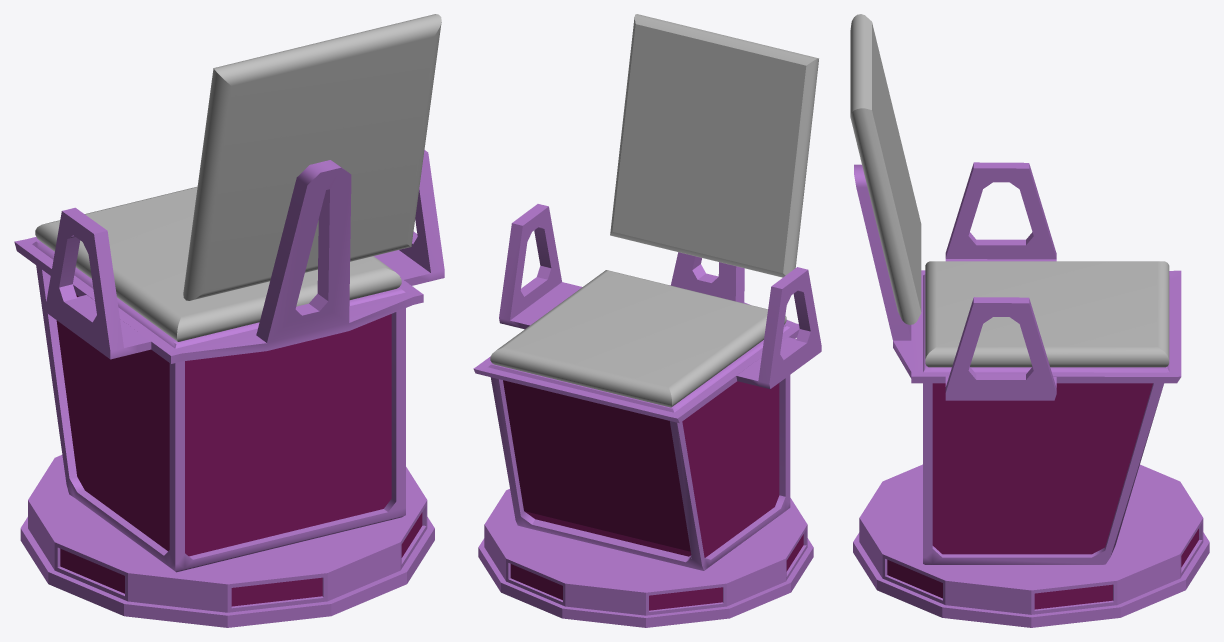
File: chairModernFrameCushion.glb
The picture shows the model from 3 angles, left to right: view 1: azimuth 30°, elevation 25°; view 2: azimuth 150°, elevation 25°; view 3: azimuth 270°, elevation 25°; orthographic projection. The views are drawn at different scales.
Parts seen in each view (by area): view 1: chairModernFrameCushion; view 2: chairModernFrameCushion; view 3: chairModernFrameCushion.
Boxes of the visible parts, <box> form: chairModernFrameCushion: <box>14,14,444,627</box>; chairModernFrameCushion: <box>473,14,821,627</box>; chairModernFrameCushion: <box>850,14,1209,627</box>.
Size of the model in its own units: 0.6142 by 0.9339 by 0.6191.
